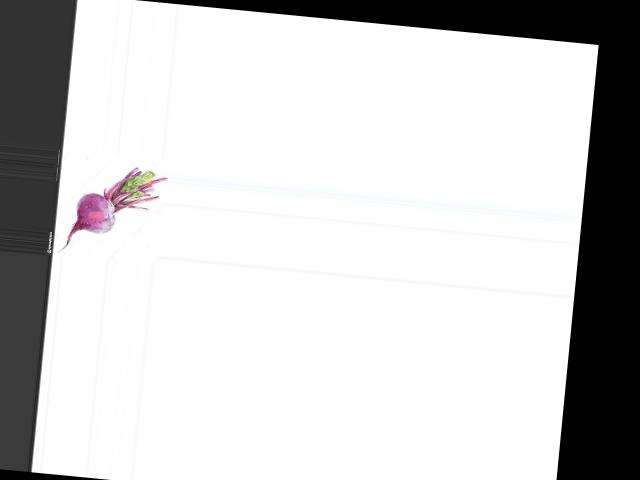beet: (57, 160, 168, 261)
